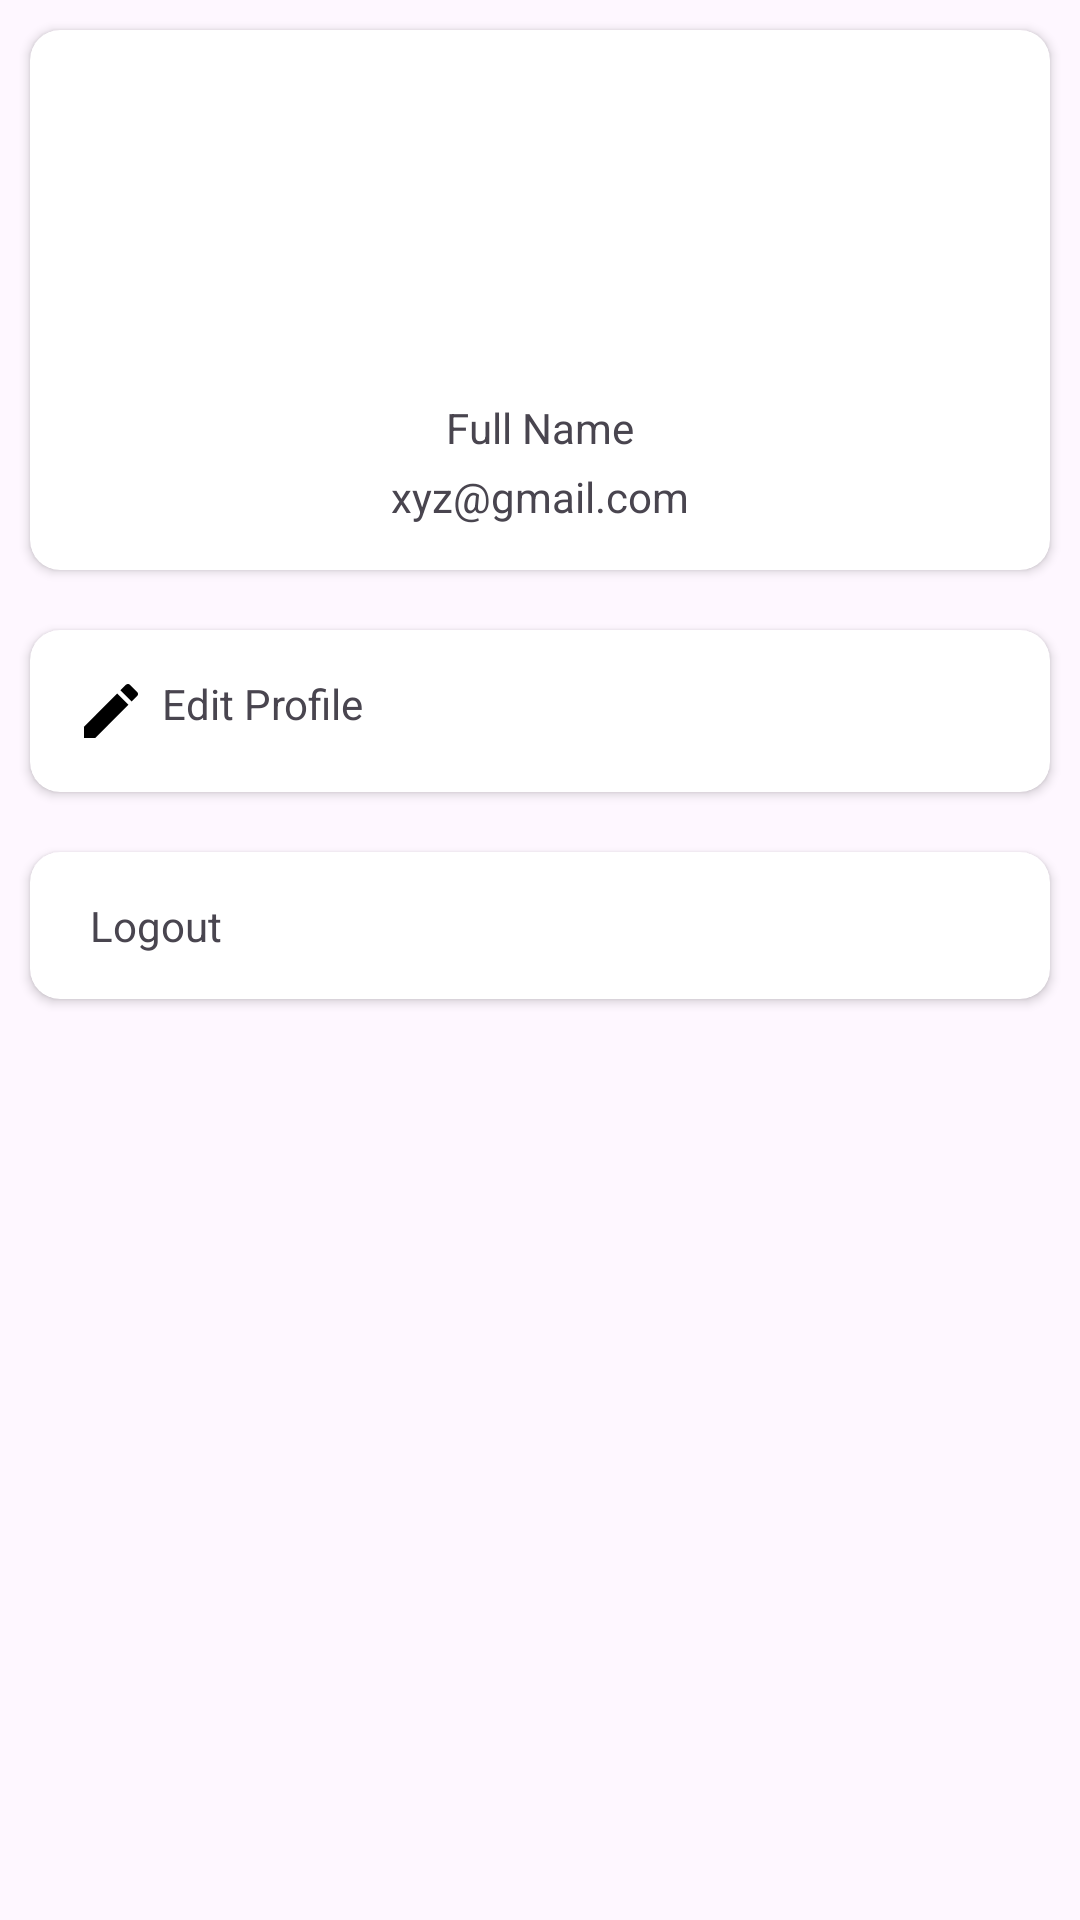

Locate icon controls on the screen. Image size 1080x1920, boxes as (x1, y1, x2, y2).
mode edit: (84, 684, 138, 738)
